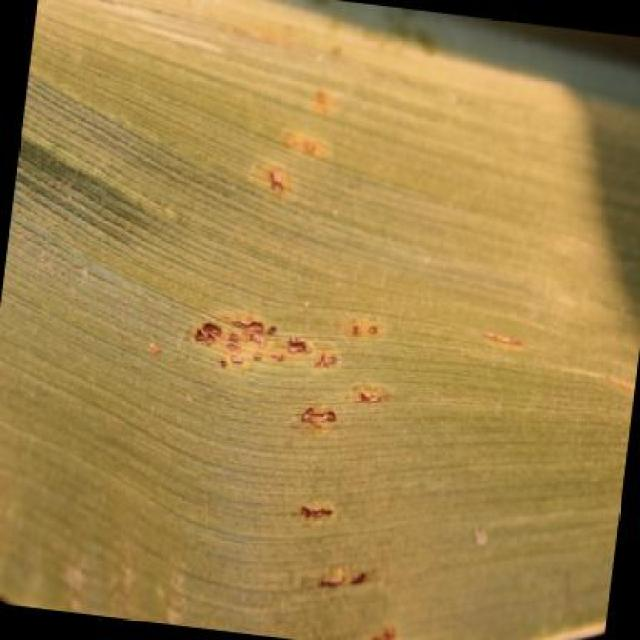Corn_Rust: (116, 86, 490, 591)
